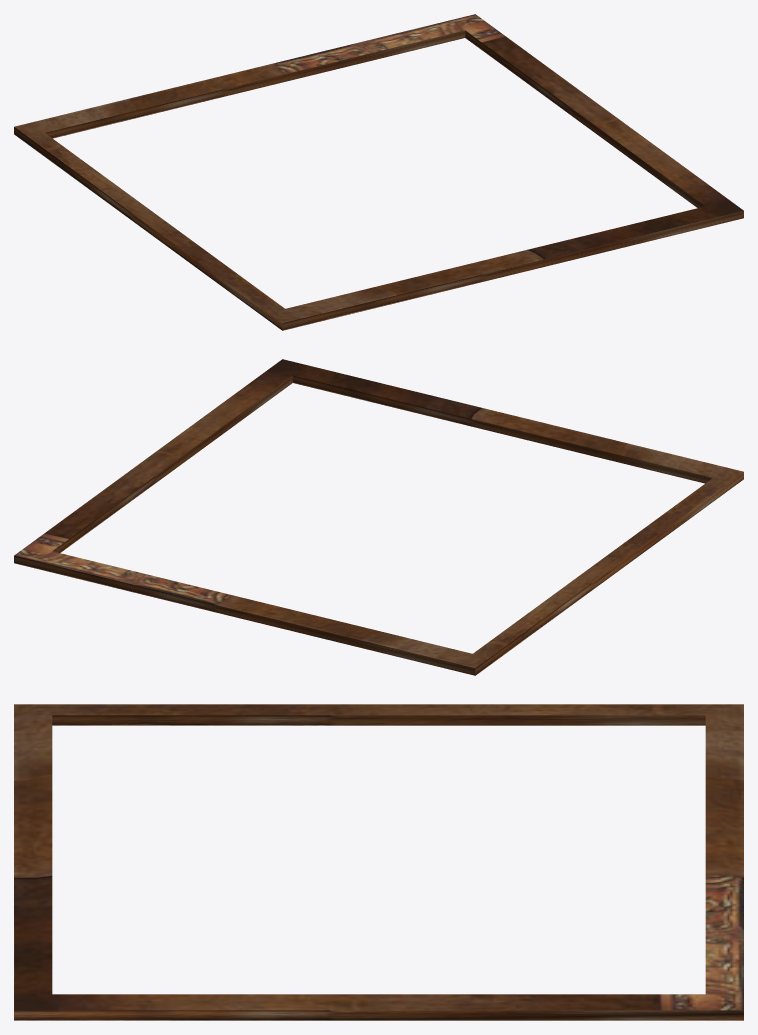
Rendered from ngle07.obj.
The picture shows the model from 3 angles, top to bottom: view 1: azimuth 30°, elevation 25°; view 2: azimuth 150°, elevation 25°; view 3: azimuth 270°, elevation 25°; orthographic projection. The views are drawn at different scales.
Visible parts, largest first — view 1: ngle07; view 2: ngle07; view 3: ngle07.
Boxes of the visible parts, x1,y1,x2,y2 form: ngle07: (14, 14, 743, 330); ngle07: (14, 359, 743, 675); ngle07: (14, 704, 743, 1020).
Size of the model in its own units: 300 by 4.72 by 303.
